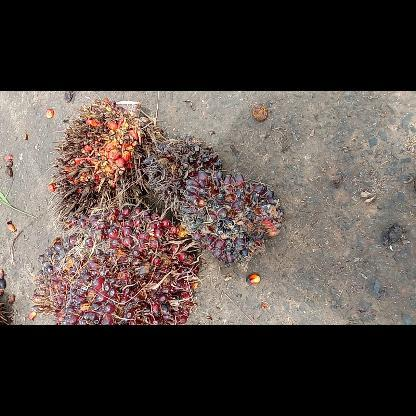TBS abnormal: (176, 168, 286, 266), (142, 132, 224, 218)
TBS masak: (31, 200, 202, 324)
Terlalu masak: (46, 98, 164, 226)
